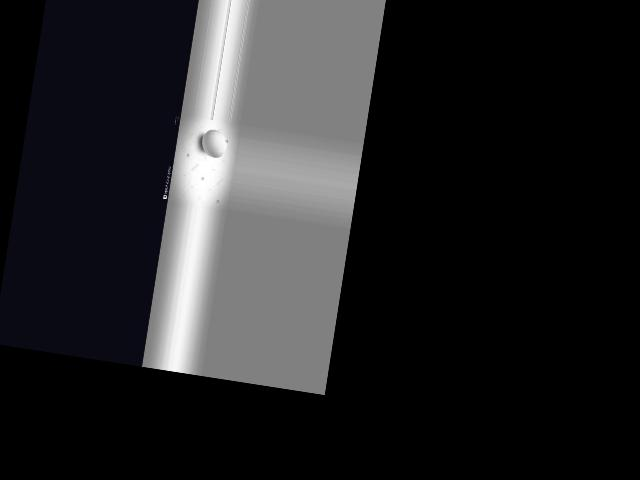egg: (199, 127, 228, 158)
